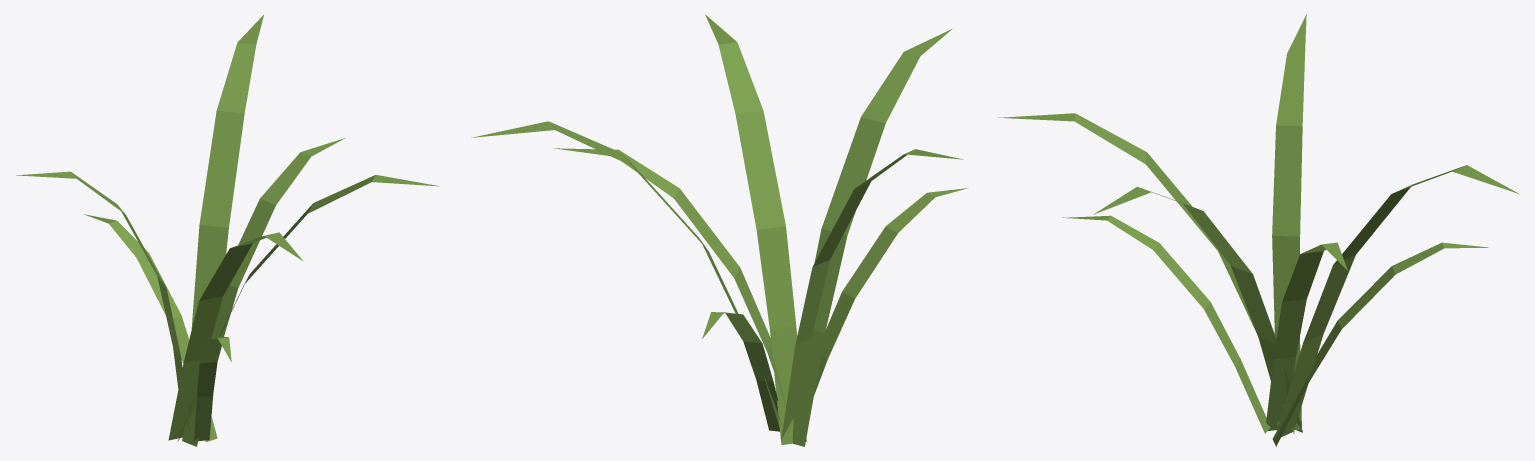
Rendered from grass_01.fbx.
The picture shows the model from 3 angles, left to right: view 1: azimuth 30°, elevation 25°; view 2: azimuth 150°, elevation 25°; view 3: azimuth 270°, elevation 25°; orthographic projection. The views are drawn at different scales.
Visible parts, largest first — view 1: grass_01; view 2: grass_01; view 3: grass_01.
Boxes of the visible parts, bbox=[...] form: grass_01: bbox=[16, 15, 439, 446]; grass_01: bbox=[471, 14, 968, 446]; grass_01: bbox=[998, 14, 1519, 446].
Size of the model in its own units: 83.95 by 70.12 by 97.92.
